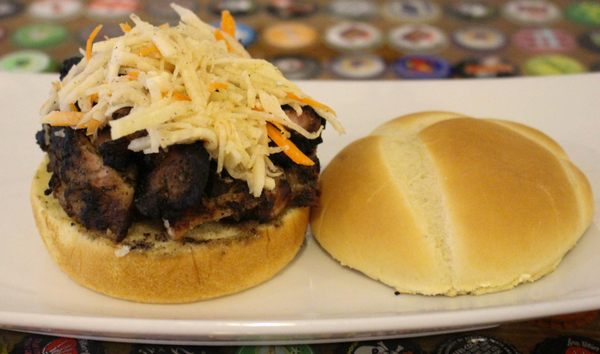soup: (30, 7, 343, 306)
